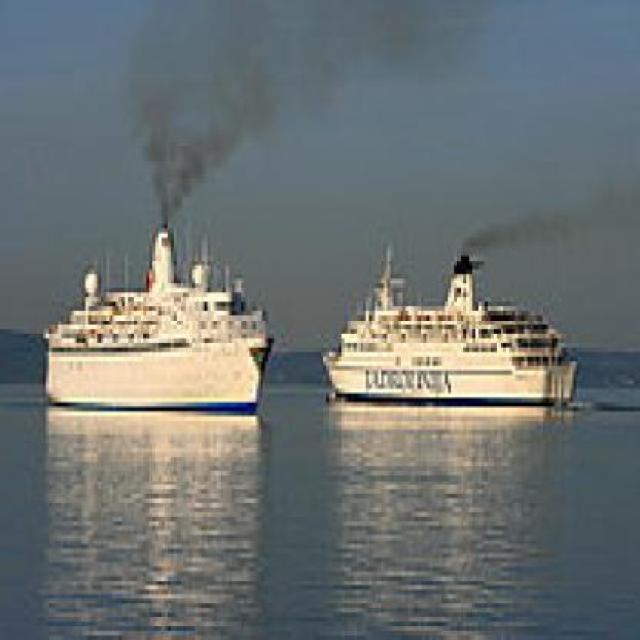cruise: (37, 216, 285, 427), (321, 234, 587, 417)
